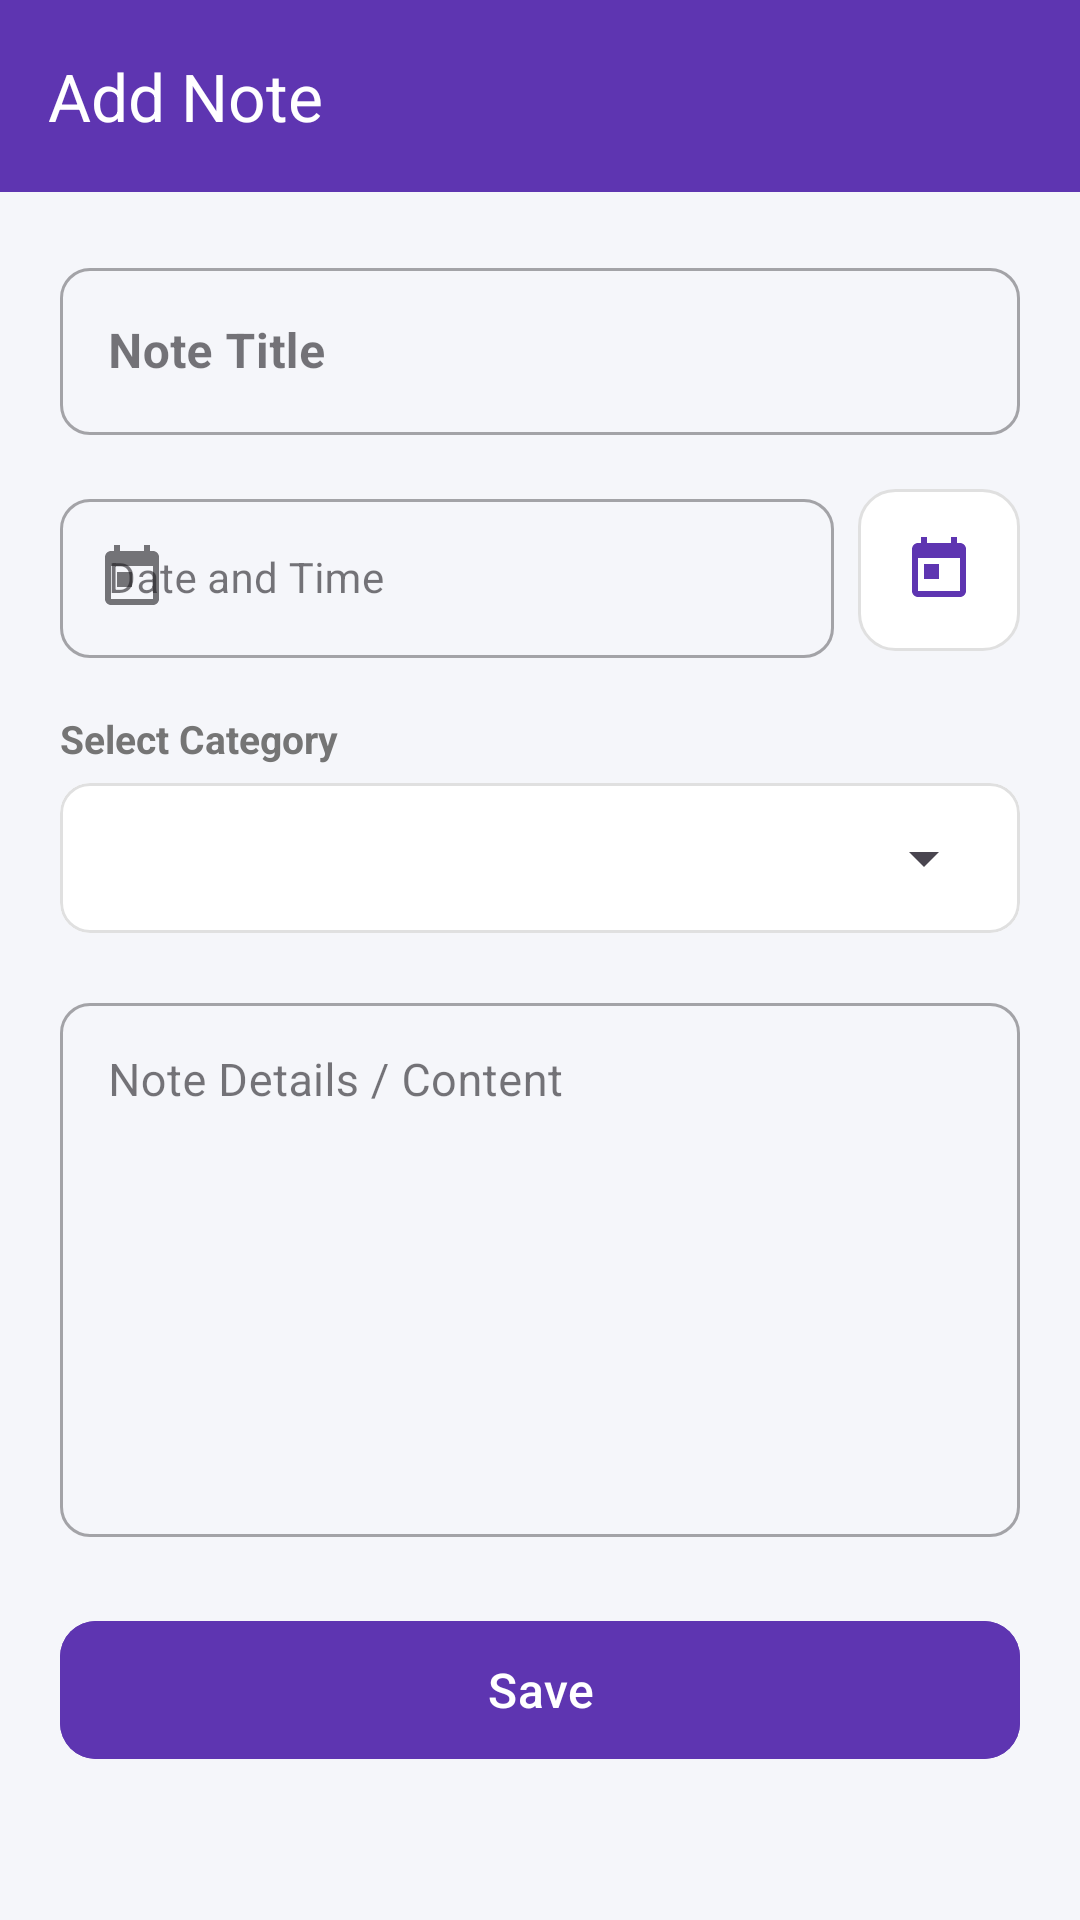

Icons on this 1080 × 1920 Android screen, each with the point to tap as (x=x, y=y):
Pick Date: (x=939, y=570)
